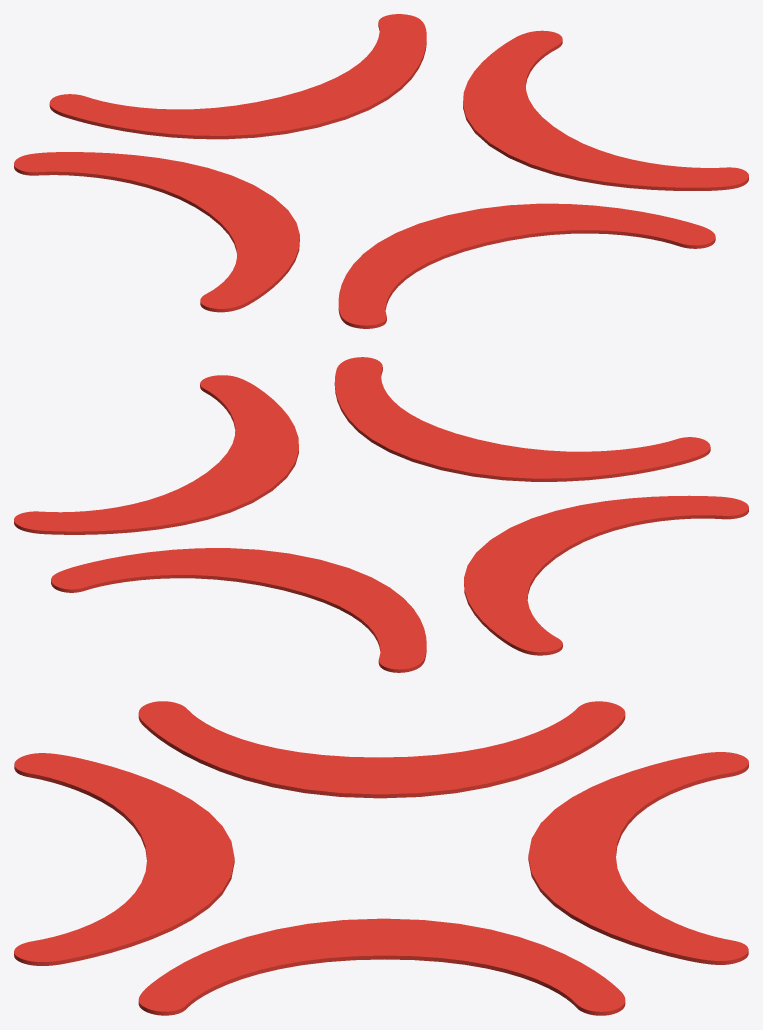
Rendered from emoji_u1f4a2.glb.
3 views of the same model, one above another, from view 1: azimuth 30°, elevation 25°; view 2: azimuth 150°, elevation 25°; view 3: azimuth 270°, elevation 25° (orthographic). The views are drawn at different scales.
Visible parts, largest first — view 1: emoji_u1f4a2; view 2: emoji_u1f4a2; view 3: emoji_u1f4a2.
Boxes of the visible parts, x1,y1,x2,y2 form: emoji_u1f4a2: [14, 14, 748, 328]; emoji_u1f4a2: [14, 357, 748, 672]; emoji_u1f4a2: [14, 701, 748, 1015].
Bounding box in the file's own units: 0.0339 × 0.0002 × 0.0339.
